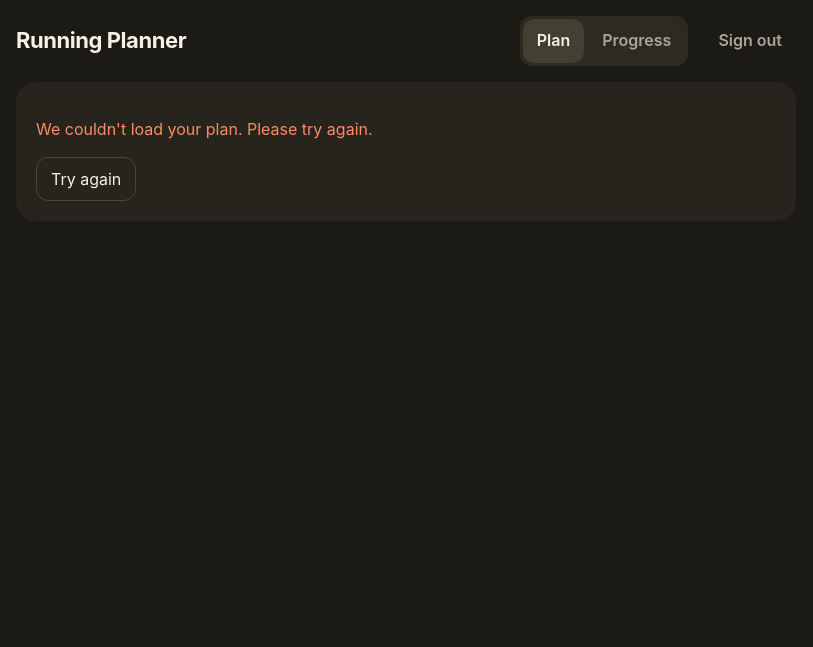
the plan › clears an old error once the plan loads again
Expected: the message shows "couldn't load", x1=36 y1=119 x2=373 y2=139
Click the button "Try again": point(86, 179) x1=36 y1=157 x2=136 y2=201
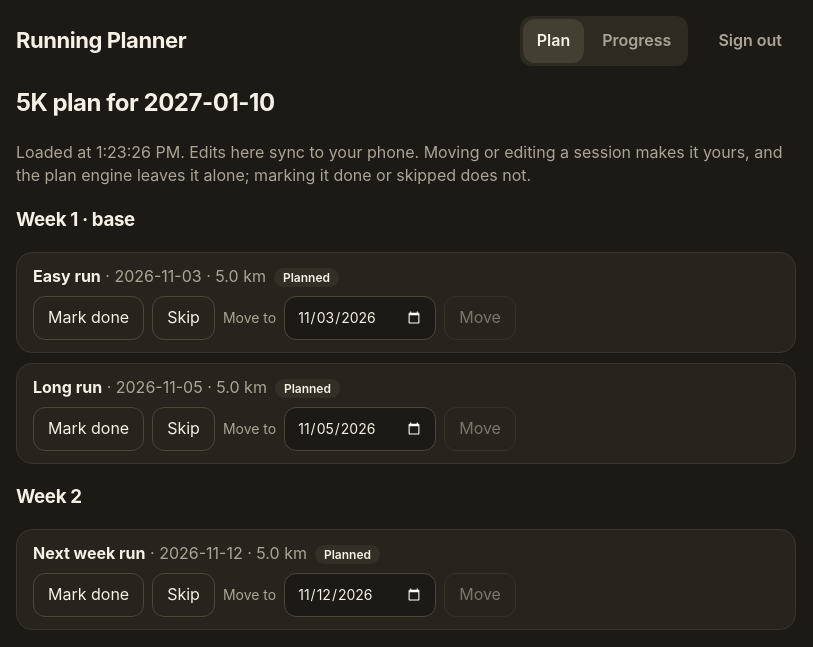
Now the text "Easy run" is shown, box x1=33 y1=266 x2=101 y2=286
Now the message "We couldn't load your plan. Please try again." is gone
